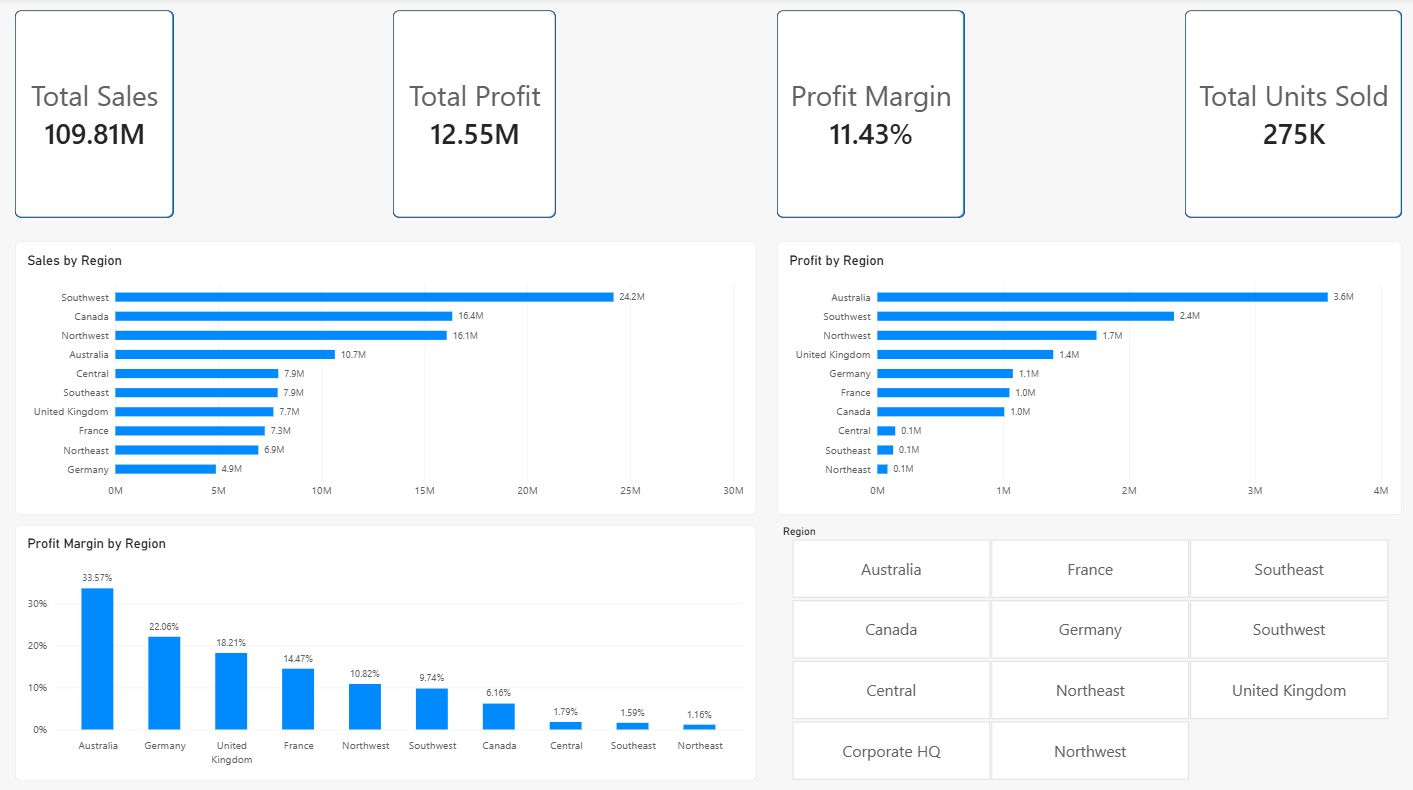

Layout of this report page (visuals, bound fields, positions):
{"tool":"powerbi","page":{"name":"Regional Performance","canvas":[1920,1080],"ordinal":3},"visuals":[{"type":"cardVisual","fields":{"Data":["Sales.Total Sales"]},"box":[23.3,17.5,214.5,280.1],"z":0},{"type":"cardVisual","fields":{"Data":["Sales.Total Profit"]},"box":[535.9,17.5,220.3,280.1],"z":1000},{"type":"cardVisual","fields":{"Data":["Sales.Profit Margin"]},"box":[1054.3,17.5,253.9,280.1],"z":2000},{"type":"cardVisual","fields":{"Data":["Customer.Total Units Sold"]},"box":[1606.3,17.5,293.3,280.1],"z":3000},{"type":"clusteredBarChart","title":"Sales by Region","fields":{"Category":["SalesTerritory.Region"],"Y":["Sales.Total Sales"]},"box":[23.3,329.7,1002.3,369.1],"z":4000},{"type":"clusteredBarChart","title":"Profit by Region","fields":{"Category":["SalesTerritory.Region"],"Y":["Sales.Total Profit"]},"box":[1054.8,329.7,844.7,369.1],"z":5000},{"type":"clusteredColumnChart","title":"Profit Margin by Region","fields":{"Category":["SalesTerritory.Region"],"Y":["Sales.Profit Margin"]},"box":[23.3,713.4,1002.3,345.8],"z":6000},{"type":"slicer","fields":{"Values":["SalesTerritory.Region"]},"box":[1054.8,713.4,844.7,345.8],"z":7000}]}

Visuals, with their boxes in screenshot pixels (x1, y1, x2, y2), scaled from the page's 1920x1080 canvas onto the 1413x790 screenshot:
cardVisual - Sales.Total Sales: (17, 13, 175, 218)
cardVisual - Sales.Total Profit: (394, 13, 557, 218)
cardVisual - Sales.Profit Margin: (776, 13, 963, 218)
cardVisual - Customer.Total Units Sold: (1182, 13, 1398, 218)
"Sales by Region" clusteredBarChart: (17, 241, 755, 511)
"Profit by Region" clusteredBarChart: (776, 241, 1398, 511)
"Profit Margin by Region" clusteredColumnChart: (17, 522, 755, 775)
slicer - SalesTerritory.Region: (776, 522, 1398, 775)
